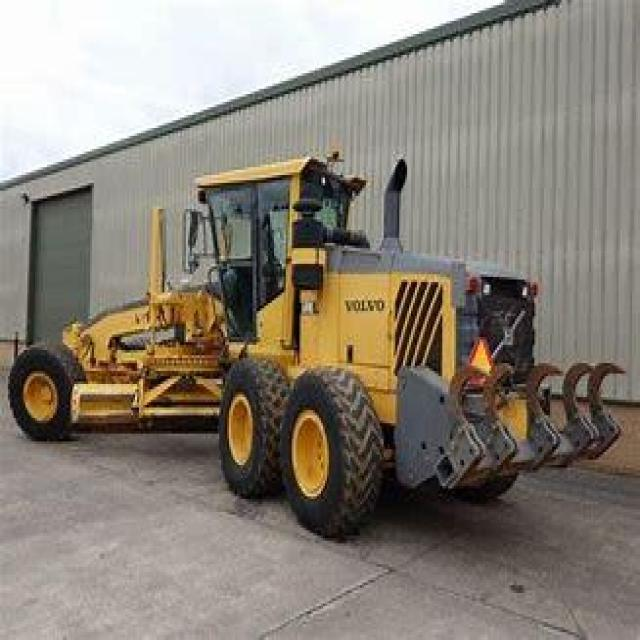buldozerpayloadergrader: (12, 141, 638, 543)
